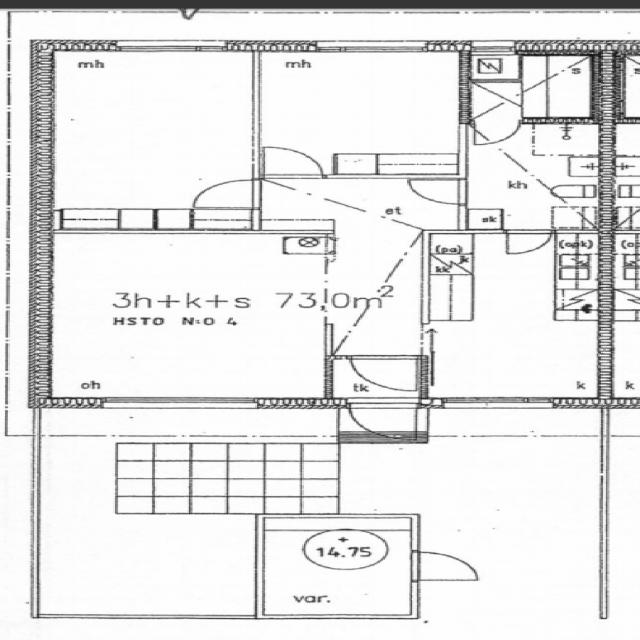door: (335, 394, 426, 442), (336, 353, 433, 394), (253, 143, 327, 183), (184, 176, 262, 212), (397, 175, 473, 208), (464, 118, 526, 146), (500, 230, 556, 257)
window: (93, 392, 266, 414), (431, 393, 562, 413), (308, 38, 435, 56), (109, 39, 231, 56), (301, 611, 388, 623)
zone: (40, 228, 336, 402), (42, 50, 262, 230), (418, 235, 612, 404), (253, 47, 466, 178), (464, 118, 616, 230), (498, 54, 624, 119), (411, 548, 490, 584), (609, 120, 640, 205), (609, 317, 640, 397), (612, 231, 640, 299)
